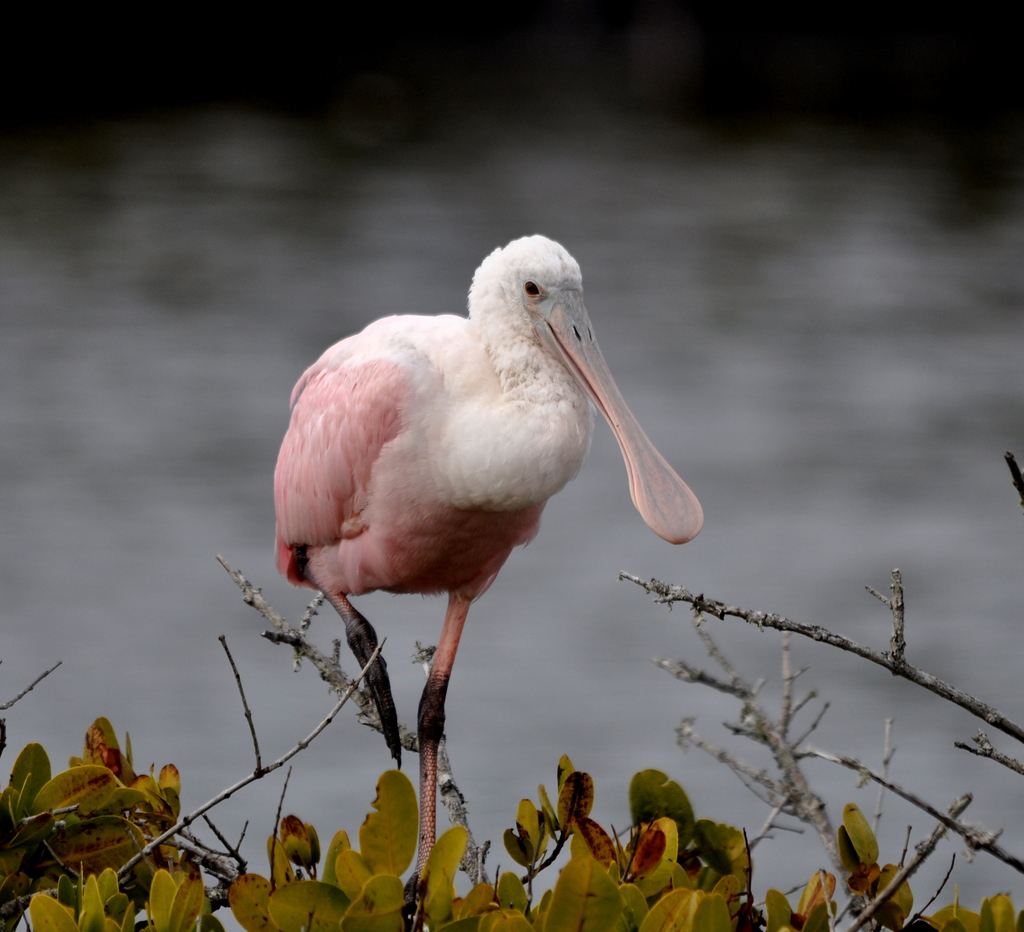Bird: (273, 233, 705, 898)
